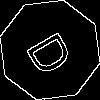D: (25, 25, 82, 79)
